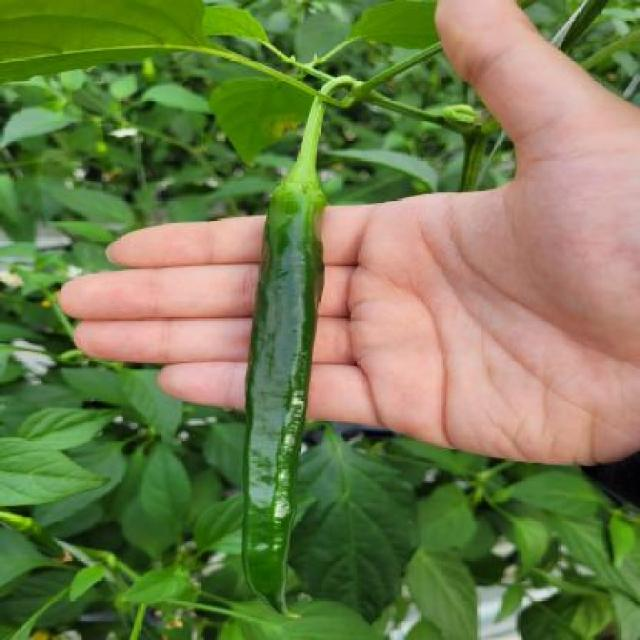green chilli: (240, 187, 325, 618)
